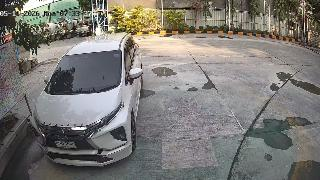cement_mixer_truck: (56, 18, 78, 37), (40, 19, 58, 39), (30, 23, 43, 39)
